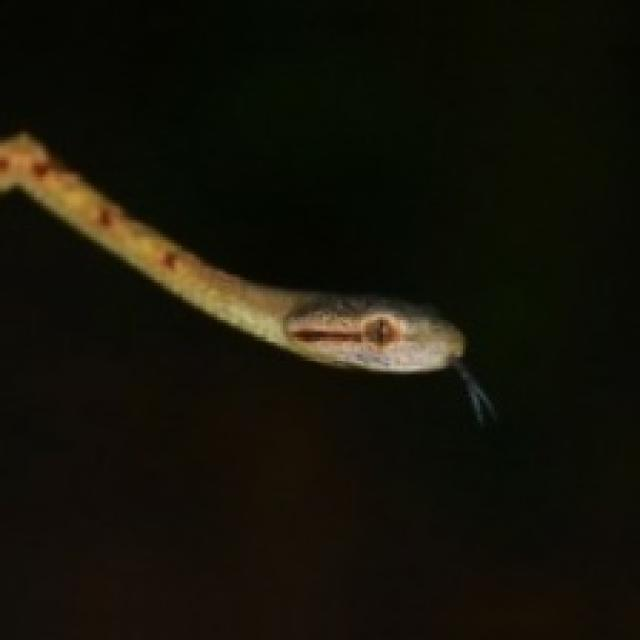dog-toothed cat snake: (0, 131, 494, 423)
